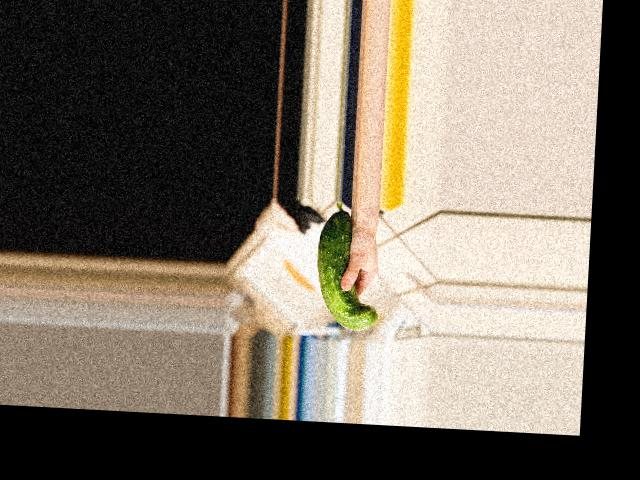cucumber: (312, 201, 383, 331)
